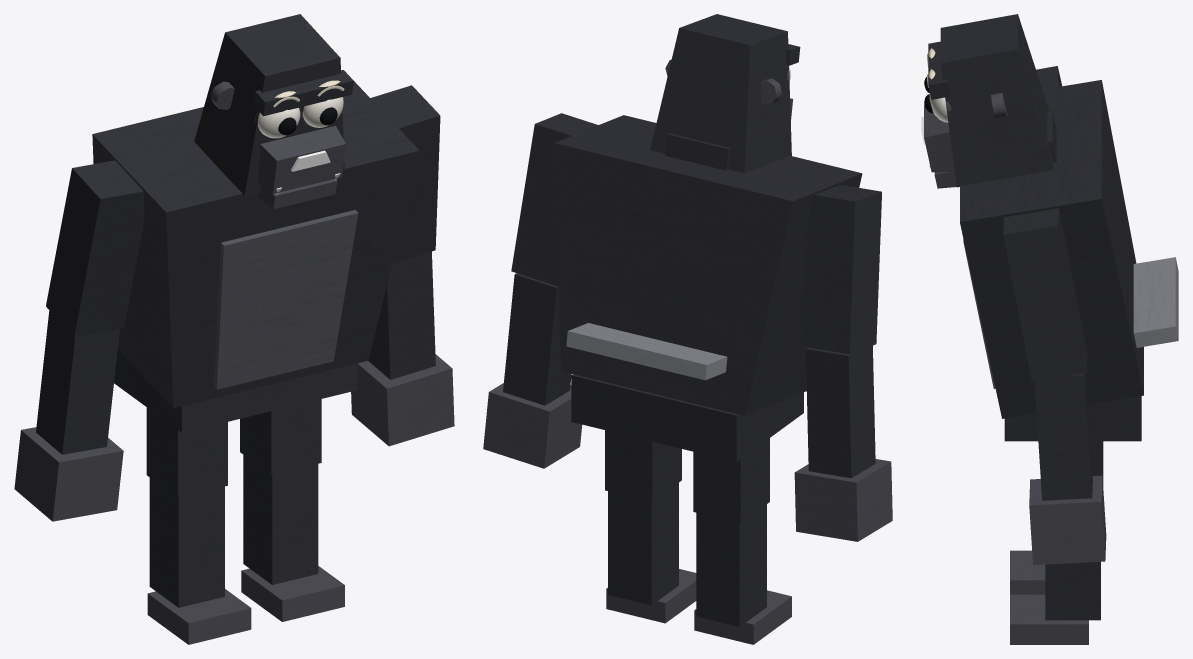
File: gorilla.glb
The picture shows the model from 3 angles, left to right: view 1: azimuth 30°, elevation 25°; view 2: azimuth 150°, elevation 25°; view 3: azimuth 270°, elevation 25°; orthographic projection. The views are drawn at different scales.
Visible parts, largest first — view 1: torso, head, shoulderR, elbowR, kneeL, kneeR, handR, hips, handL, elbowL, shoulderL, hipR (+4 smaller); view 2: torso, head, shoulderR, hips, elbowR, kneeL, kneeR, elbowL, handR, shoulderL, handL, hipR (+4 smaller); view 3: torso, head, shoulderL, elbowL, handL, kneeL, hips, footL, footR, hipL, shoulderR, neck.
Boxes of the visible parts, x1,y1,x2,y2 form: torso: (92,81,419,408); head: (194,14,353,196); shoulderR: (46,160,144,337); elbowR: (36,310,119,454); kneeL: (243,455,318,584); kneeR: (149,478,224,607); handR: (14,427,123,521); hips: (114,349,357,432); handL: (351,354,454,446); elbowL: (368,251,435,379); shoulderL: (370,85,440,263); hipR: (146,407,227,497); torso: (554,115,862,415); head: (650,14,800,173); shoulderR: (802,185,881,353); hips: (571,374,803,462); elbowR: (805,345,875,478); kneeL: (608,483,678,605); kneeR: (696,504,766,626); elbowL: (503,273,571,405); handR: (794,459,892,541); shoulderL: (511,113,598,286); handL: (483,383,582,468); hipR: (693,438,769,523); torso: (960,80,1178,418); head: (921,14,1053,187); shoulderL: (1003,208,1087,381); elbowL: (1034,373,1092,500); handL: (1029,475,1106,565); kneeL: (1045,561,1100,620); hips: (1004,396,1141,441); footL: (1010,594,1088,644); footR: (1010,550,1045,594); hipL: (1090,441,1103,485); shoulderR: (1036,66,1061,89); neck: (1047,111,1056,162).
Bounding box in the file's own units: 1.36 × 1.94 × 0.7849.
18 materials, 15 textured.
